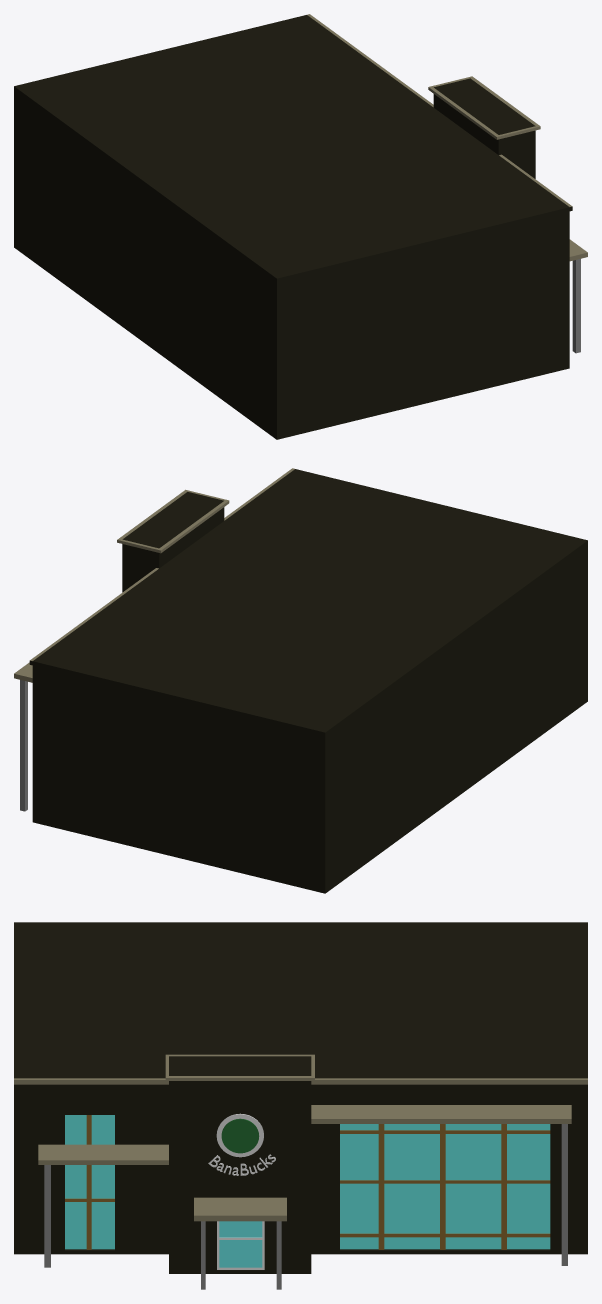
The model's file is STARBUCKS.fbx.
3 views of the same model, one above another, from view 1: azimuth 30°, elevation 25°; view 2: azimuth 150°, elevation 25°; view 3: azimuth 270°, elevation 25° (orthographic). The views are drawn at different scales.
Parts seen in each view (by area): view 1: Main; view 2: Main; view 3: Main, Door, Text.
Part boxes in pixels (x1,y1,x2,y2): Main: [14, 14, 587, 439]; Main: [14, 468, 587, 893]; Main: [14, 922, 587, 1289]; Door: [217, 1221, 264, 1269]; Text: [208, 1154, 275, 1175].
Bounding box in the file's own units: 2438 × 1162 × 3053.
